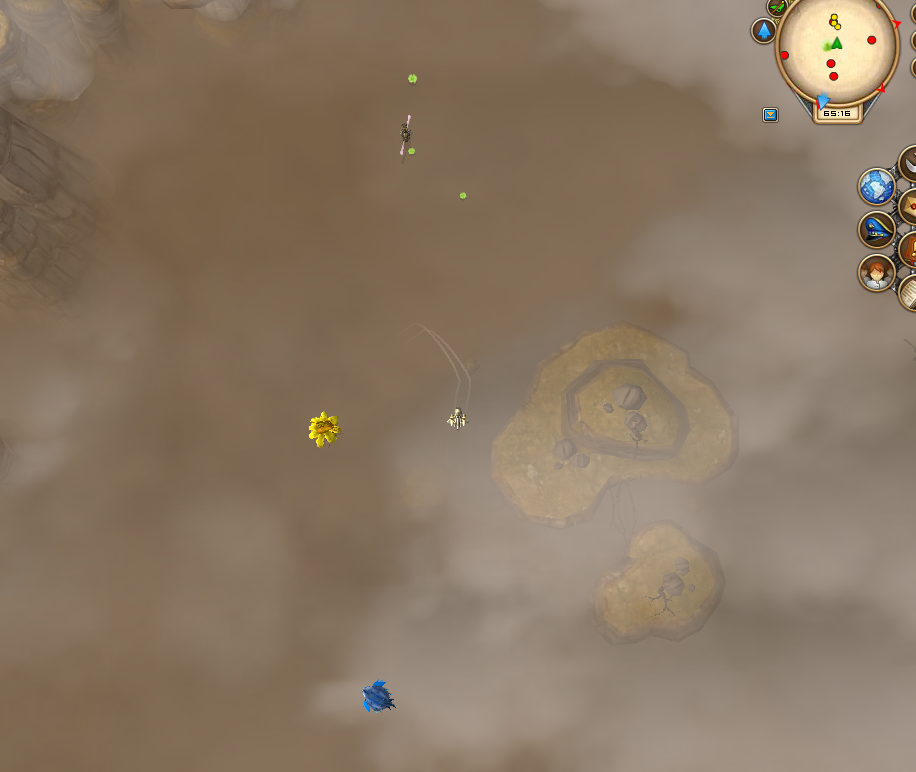dandelion-empty: (302, 405, 348, 451)
fluff: (403, 70, 423, 89), (405, 144, 419, 158), (456, 188, 470, 202)
